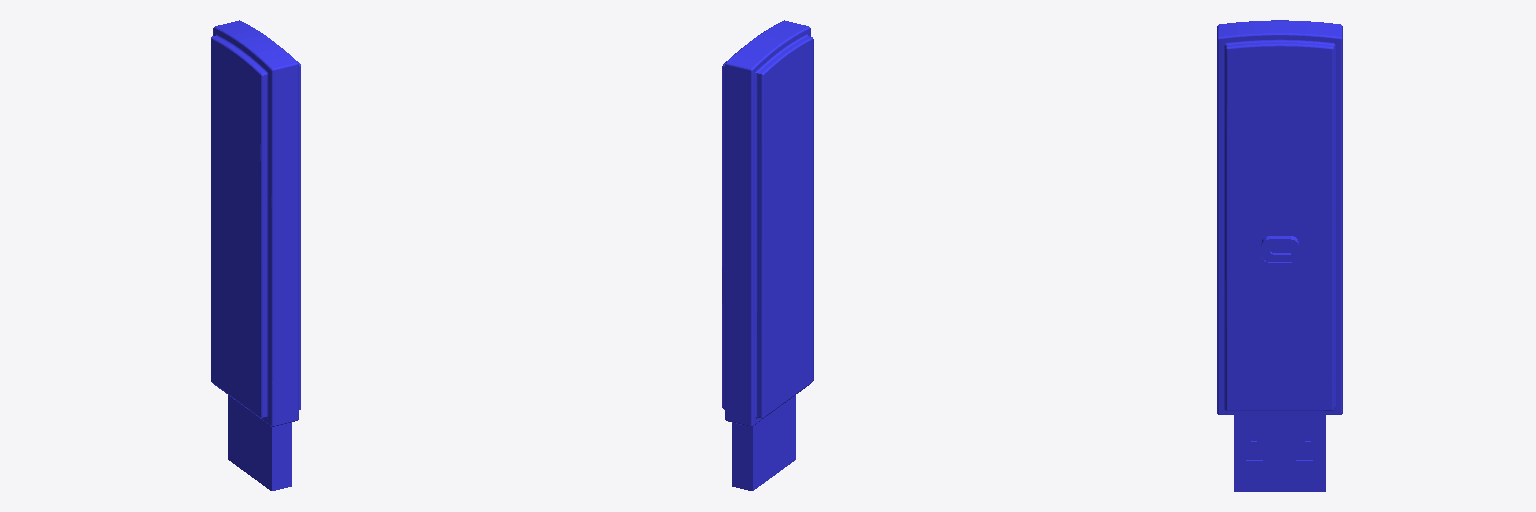
robot.urdf — USB_plug:
<?xml version="1.0"?>
<robot name="USB_plug">
    <link name="USB_plug">
        <visual>
            <geometry>
                <mesh filename="../mesh/TVB_mesh/USB_plug.obj"/>
            </geometry>
            <material name="Blue">
                <color rgba="0.3 0.3 1 1"/>
            </material>
        </visual>
        <collision>
            <geometry>
                <mesh filename="../mesh/TVB_mesh/USB_plug.obj"/>
            </geometry>
            <sdf resolution="128"/>
        </collision>
    </link>
</robot>

--- Render facts (derived) ---
Views: 3 orthographic renders of the robot side by side, from view 1: azimuth 30°, elevation 25°; view 2: azimuth 150°, elevation 25°; view 3: azimuth 270°, elevation 25°.
Robot: USB_plug — 1 links, 0 joints (none); root link USB_plug; default pose: every joint at zero.
Links seen in each view (by area): view 1: USB_plug; view 2: USB_plug; view 3: USB_plug.
Link boxes in pixels (x1=…): USB_plug: x1=211, y1=20, x2=300, y2=490; USB_plug: x1=722, y1=20, x2=813, y2=490; USB_plug: x1=1217, y1=20, x2=1342, y2=491.
Bounding box of the posed robot: 0.0122 × 0.03 × 0.121 m (x, y, z).
Meshes: 1 distinct files referenced, 1 mesh visuals loaded (1 OBJ).